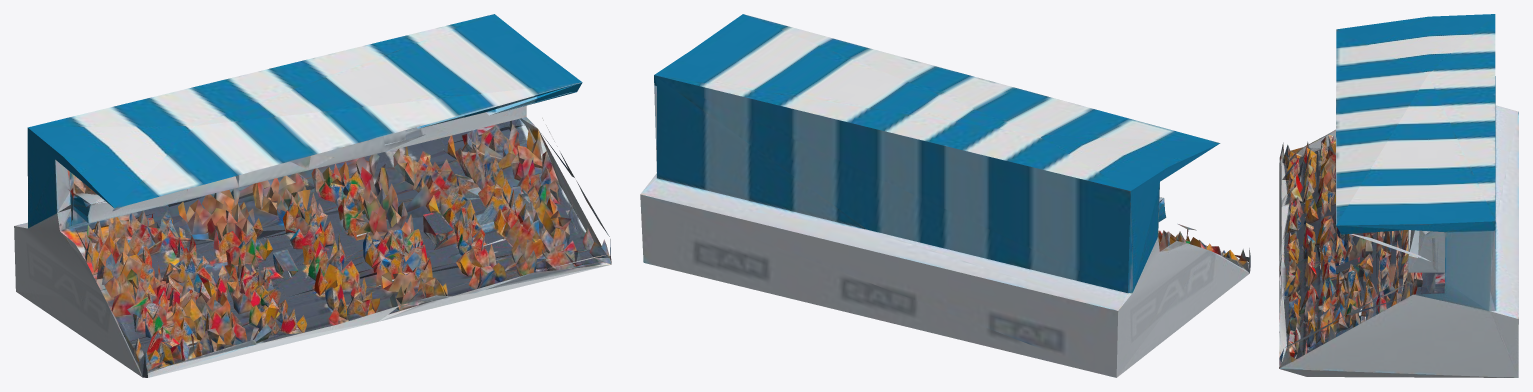
Rendered from grandstand.glb.
The picture shows the model from 3 angles, left to right: view 1: azimuth 30°, elevation 25°; view 2: azimuth 150°, elevation 25°; view 3: azimuth 270°, elevation 25°; orthographic projection. The views are drawn at different scales.
Bounding box in the file's own units: 1.9 × 0.6754 × 0.9269.
1 material, 1 textured.
